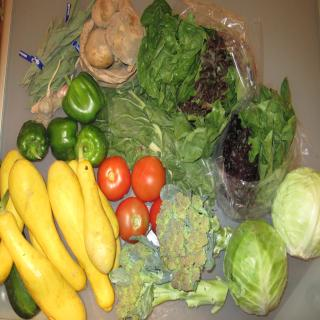tomato: (132, 156, 166, 207), (92, 156, 126, 203), (117, 195, 149, 242), (149, 199, 165, 234)
